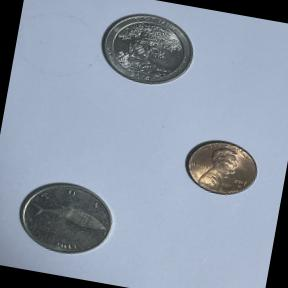coin: (90, 4, 202, 96), (9, 174, 122, 264), (176, 131, 263, 204)
